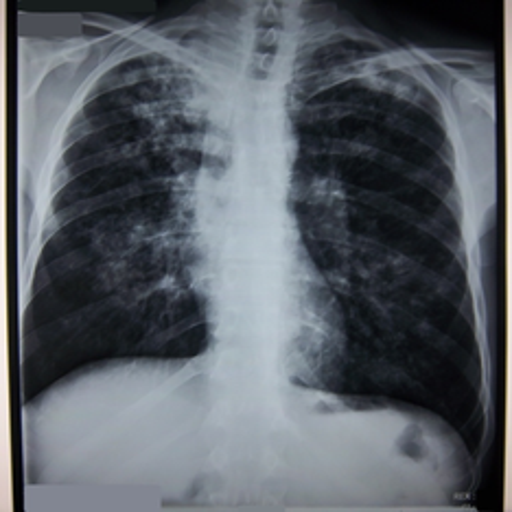TB: (126, 56, 219, 162), (326, 56, 417, 103)
